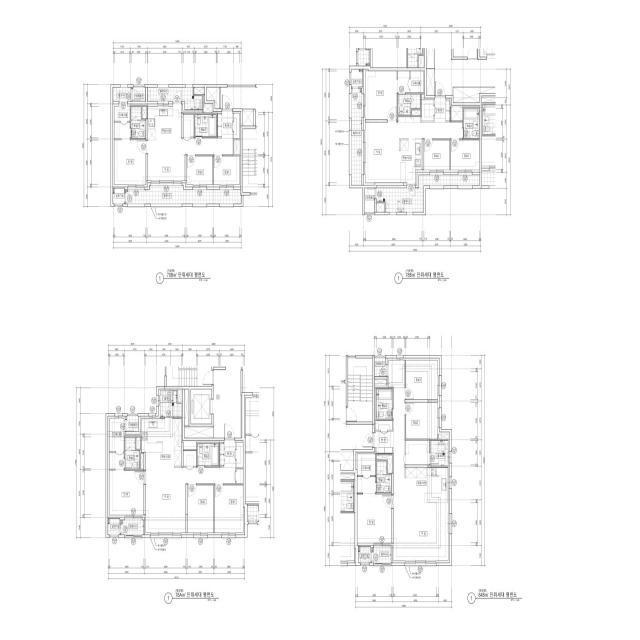space_balconi: (376, 175, 479, 212), (125, 186, 241, 204), (148, 87, 202, 110), (351, 88, 362, 185), (160, 391, 181, 417), (430, 441, 448, 466), (121, 518, 144, 535), (372, 546, 391, 563), (113, 87, 131, 101)
space_bedroom: (357, 494, 391, 543), (109, 470, 144, 515), (365, 71, 397, 119), (114, 140, 146, 184), (215, 485, 243, 533), (406, 360, 438, 400), (188, 485, 213, 533), (406, 403, 438, 439), (451, 140, 479, 170), (424, 140, 450, 170), (187, 156, 213, 185), (214, 156, 239, 185)
space_dressroom: (109, 418, 124, 469), (357, 454, 376, 493), (114, 104, 130, 139), (398, 71, 423, 93)
space_elevator: (191, 389, 212, 424)
space_elevator_hall: (214, 370, 241, 438)
space_front: (217, 111, 233, 138), (220, 439, 235, 467), (374, 432, 393, 454), (435, 97, 450, 122)
space_kitchen: (141, 418, 181, 466), (405, 468, 448, 503), (148, 104, 181, 138), (399, 139, 422, 183)
space_living_room: (389, 360, 448, 561), (365, 117, 463, 183), (146, 466, 235, 533), (148, 138, 233, 181)
space_other: (406, 441, 429, 465), (184, 427, 213, 438), (206, 87, 220, 109), (377, 455, 392, 473), (183, 114, 194, 137), (422, 100, 434, 121), (375, 358, 387, 376), (365, 188, 374, 212), (125, 416, 138, 432), (132, 87, 146, 101), (183, 451, 196, 466), (236, 442, 243, 468), (184, 389, 189, 425), (243, 109, 253, 126), (451, 107, 463, 121), (376, 420, 392, 430), (234, 113, 240, 138), (236, 469, 243, 484), (234, 140, 240, 155), (375, 379, 387, 385), (376, 203, 384, 212), (194, 87, 204, 94), (204, 105, 212, 113), (142, 107, 147, 119), (136, 437, 140, 449), (439, 434, 448, 439), (141, 454, 144, 469), (178, 391, 182, 402), (412, 110, 420, 115)
space_outdoor_room: (351, 69, 363, 87), (358, 547, 371, 563), (108, 519, 120, 535), (113, 188, 124, 204)
space_staircase: (348, 358, 372, 422)
space_toilet: (197, 444, 219, 466), (195, 114, 216, 137), (125, 437, 140, 469), (376, 389, 392, 419), (131, 107, 146, 138), (464, 108, 479, 139), (398, 94, 420, 115), (377, 461, 391, 493)
